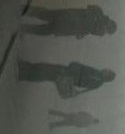person: (16, 58, 116, 101), (19, 4, 118, 39), (47, 108, 100, 129)
